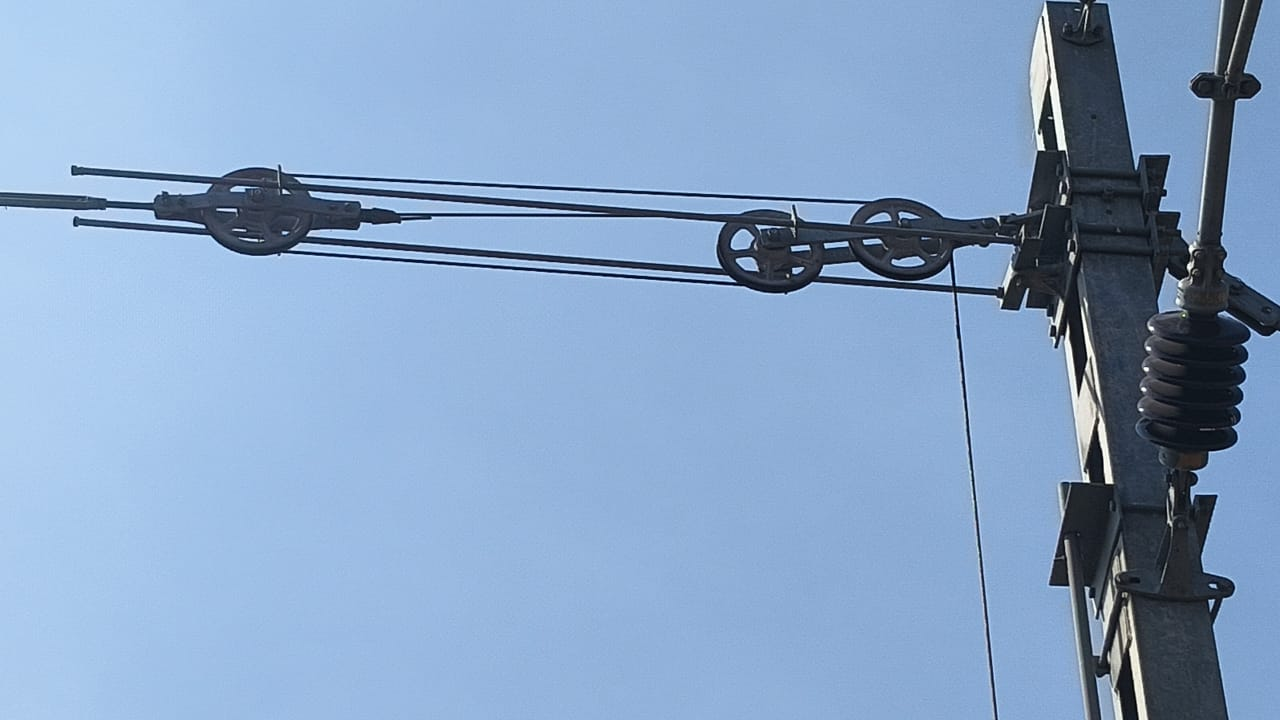Pulley: (718, 200, 827, 305), (203, 162, 319, 257), (847, 184, 948, 289)
objectA: (1136, 289, 1263, 469)
pole: (1036, 4, 1180, 619)
